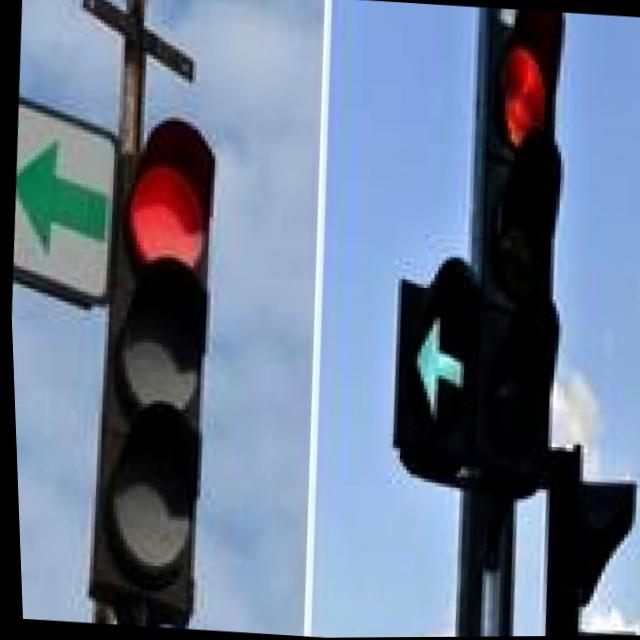red_light: (90, 113, 269, 273), (449, 5, 623, 143)
